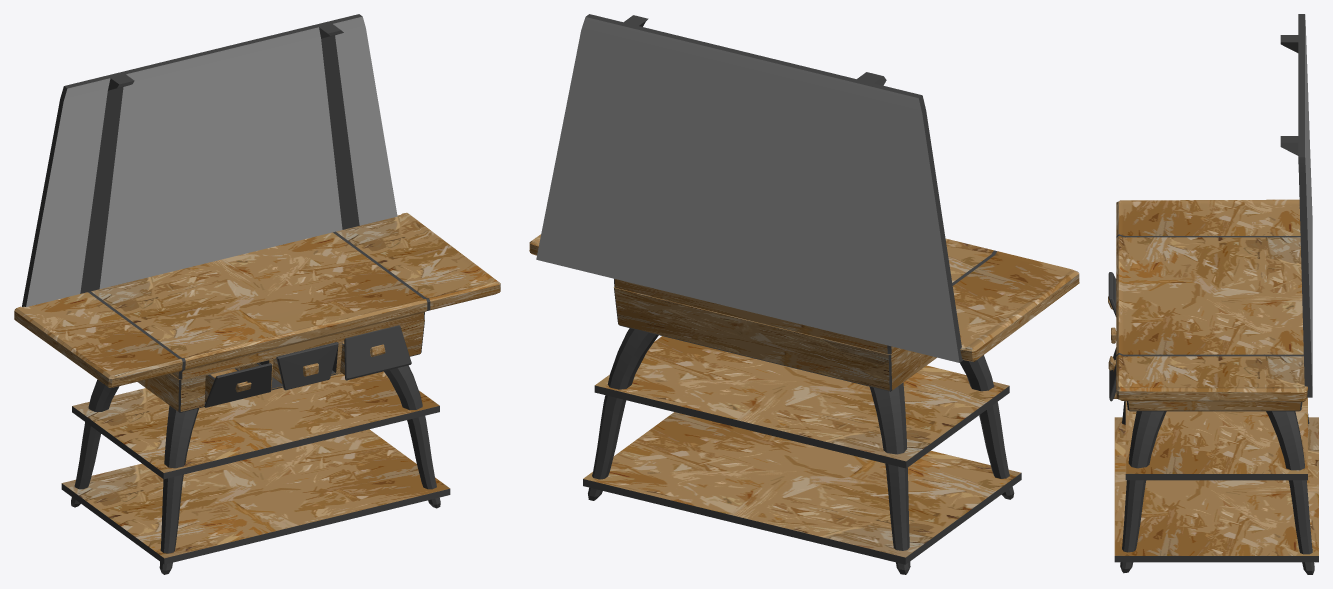
File: work bence body.fbx
3 views of the same model, side by side, from view 1: azimuth 30°, elevation 25°; view 2: azimuth 150°, elevation 25°; view 3: azimuth 270°, elevation 25° (orthographic). The views are drawn at different scales.
Visible parts, largest first — view 1: back, table, pCube4, legs, bottom_of_workbench, leg_8, drawer3, leg_9, drawer2, drawer_1, leg_11; view 2: back, pCube4, legs, table, bottom_of_workbench, leg_11, leg_10, leg_8; view 3: table, pCube4, legs, back, leg_9, leg_10, bottom_of_workbench, drawer3, drawer2.
Part boxes in pixels (x1,y1,x2,y2): back: (22, 14, 397, 306); table: (14, 212, 500, 387); pCube4: (61, 429, 450, 564); legs: (72, 371, 439, 479); bottom_of_workbench: (137, 319, 424, 412); leg_8: (159, 405, 198, 574); drawer3: (340, 325, 411, 380); leg_9: (384, 365, 440, 508); drawer2: (204, 363, 271, 407); drawer_1: (272, 342, 338, 390); leg_11: (71, 379, 119, 507); back: (536, 14, 963, 362); pCube4: (583, 412, 1021, 564); legs: (594, 336, 1009, 468); table: (529, 234, 1079, 361); bottom_of_workbench: (614, 286, 936, 391); leg_11: (869, 382, 910, 574); leg_10: (588, 328, 658, 500); leg_8: (960, 355, 1014, 499); table: (1116, 199, 1307, 401); pCube4: (1114, 417, 1318, 562); legs: (1125, 397, 1307, 480); back: (1280, 14, 1312, 397); leg_9: (1120, 411, 1166, 573); leg_10: (1266, 411, 1314, 574); bottom_of_workbench: (1126, 401, 1302, 411); drawer3: (1108, 347, 1116, 401); drawer2: (1108, 272, 1116, 316).
Size of the model in its own units: 65.57 by 66.94 by 30.37.
